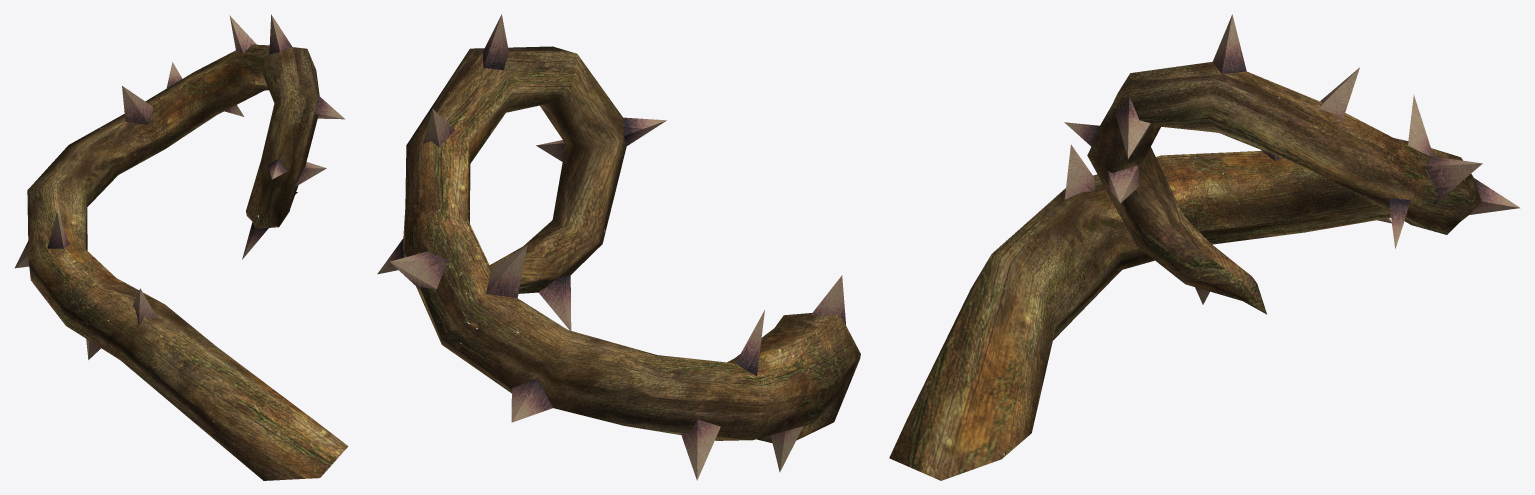
File: obj_mtthund_thorn05a.glb
3 renders of one model, left to right at view 1: azimuth 30°, elevation 25°; view 2: azimuth 150°, elevation 25°; view 3: azimuth 270°, elevation 25°, orthographic. The views are drawn at different scales.
Parts seen in each view (by area): view 1: obj_mtthund_thorn05A; view 2: obj_mtthund_thorn05A; view 3: obj_mtthund_thorn05A.
Boxes of the visible parts, x1=… form: obj_mtthund_thorn05A: x1=15, y1=14, x2=348, y2=480; obj_mtthund_thorn05A: x1=377, y1=14, x2=860, y2=480; obj_mtthund_thorn05A: x1=889, y1=14, x2=1519, y2=480.
Size of the model in its own units: 6.07 by 7.82 by 9.05.
Materials: 1 (1 with a texture image).
